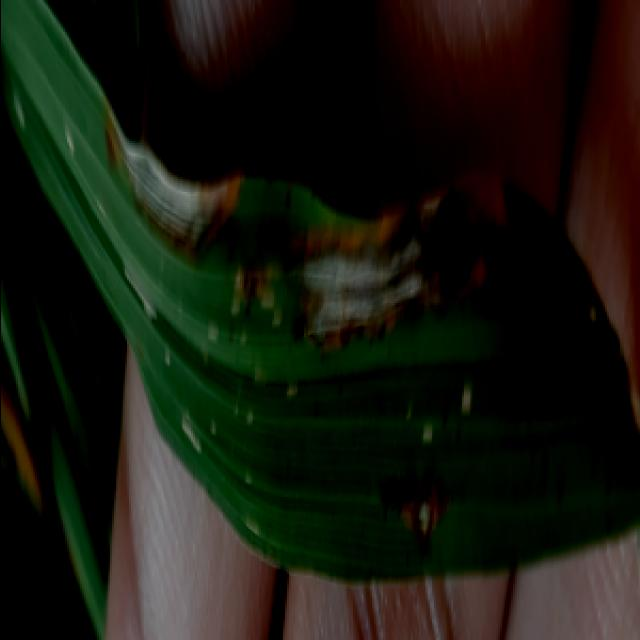Brown_Spot: (269, 195, 505, 348), (354, 448, 458, 558)
